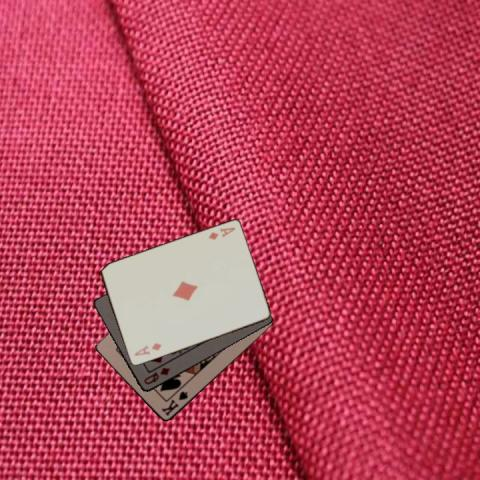Ad: (131, 340, 162, 357), (204, 225, 236, 241)
Ks: (158, 389, 189, 418)
Qd: (141, 365, 171, 386)
